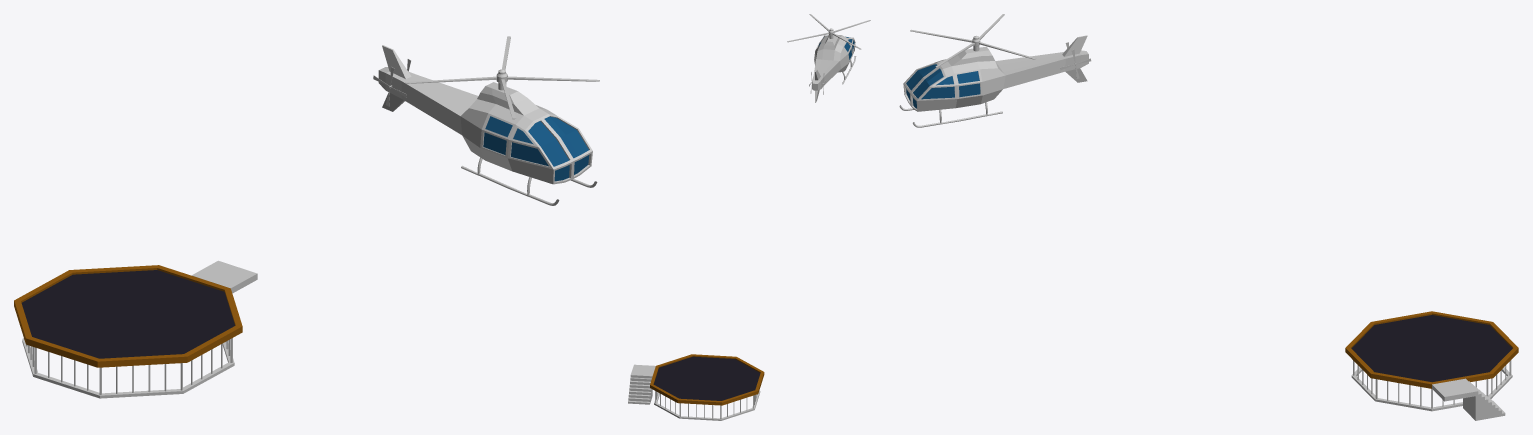
Rendered from copter_000073.obj.
3 renders of one model, left to right at view 1: azimuth 30°, elevation 25°; view 2: azimuth 150°, elevation 25°; view 3: azimuth 270°, elevation 25°, orthographic. The views are drawn at different scales.
Visible parts, largest first — view 1: Cylinder.001_Cylinder.012, Helicopter.007_Cylinder.008, Helicopter.001_Cylinder.001; view 2: Cylinder.001_Cylinder.012, Helicopter.007_Cylinder.008, Helicopter.001_Cylinder.001; view 3: Cylinder.001_Cylinder.012, Helicopter.007_Cylinder.008, Helicopter.001_Cylinder.001.
Part boxes in pixels (x1=…): Cylinder.001_Cylinder.012: x1=14, y1=260, x2=257, y2=398; Helicopter.007_Cylinder.008: x1=378, y1=45, x2=597, y2=205; Helicopter.001_Cylinder.001: x1=405, y1=36, x2=599, y2=119; Cylinder.001_Cylinder.012: x1=628, y1=354, x2=764, y2=420; Helicopter.007_Cylinder.008: x1=812, y1=34, x2=856, y2=102; Helicopter.001_Cylinder.001: x1=787, y1=14, x2=870, y2=49; Cylinder.001_Cylinder.012: x1=1345, y1=311, x2=1518, y2=420; Helicopter.007_Cylinder.008: x1=899, y1=35, x2=1088, y2=127; Helicopter.001_Cylinder.001: x1=910, y1=14, x2=1036, y2=67.
Bounding box in the file's own units: 7.94 × 15.68 × 24.21.
